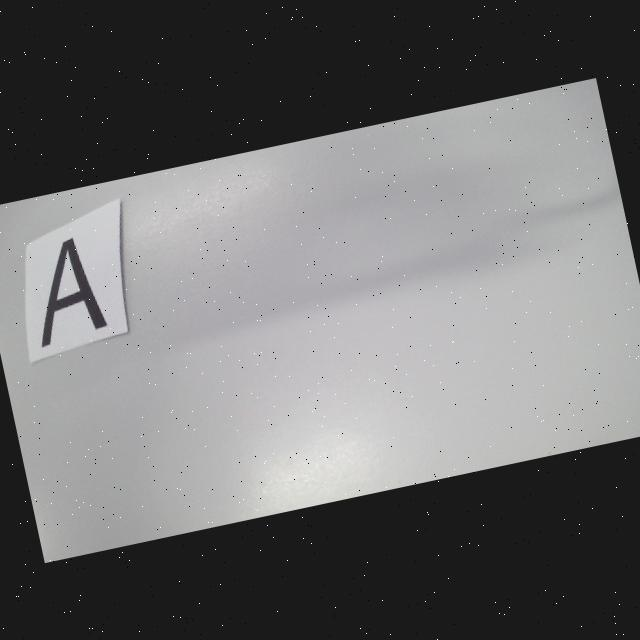FAKE: (20, 234, 109, 347)
